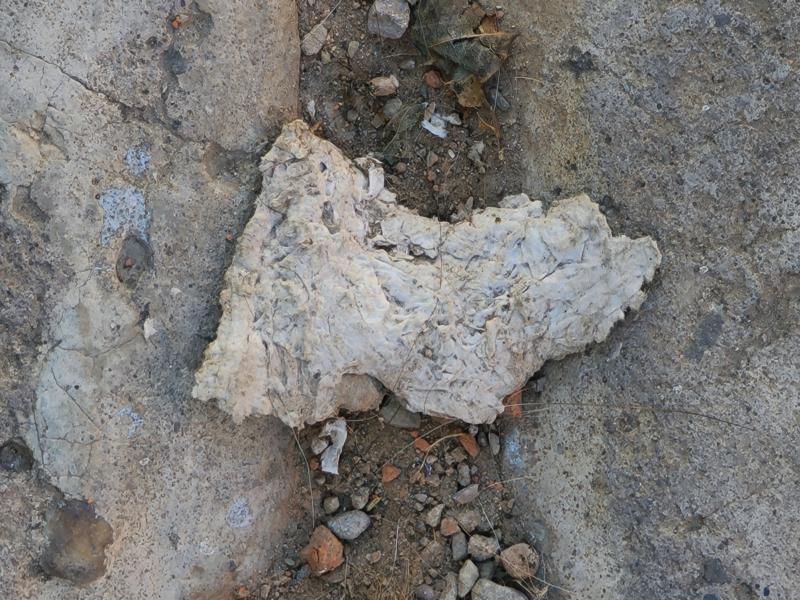papel: (191, 121, 662, 436)
